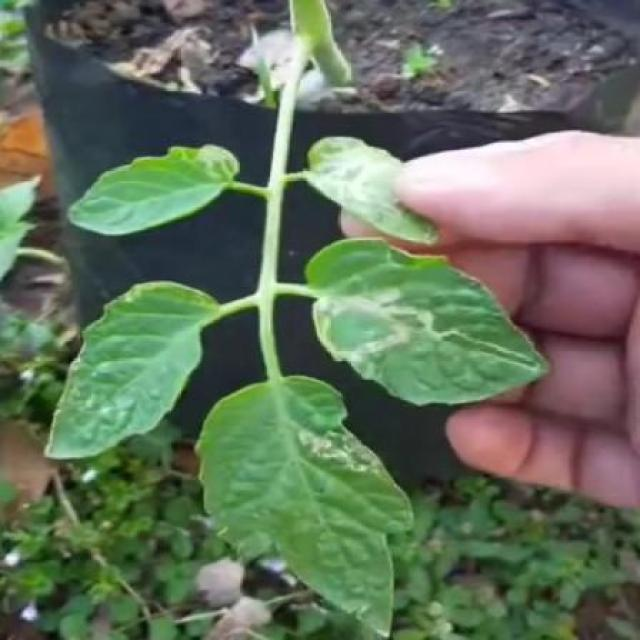Leaf Miner: (199, 375, 422, 640), (299, 235, 555, 406), (68, 144, 242, 234)
